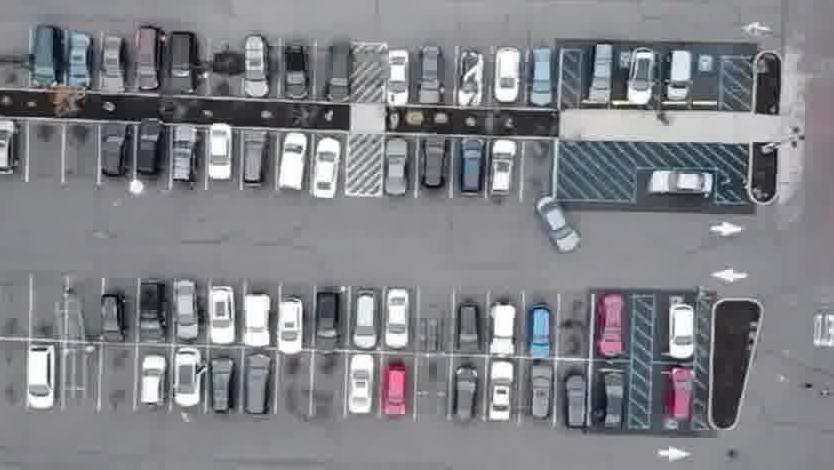car: (529, 196, 586, 251), (345, 285, 387, 347), (345, 353, 383, 420), (24, 340, 59, 410), (27, 24, 63, 89), (166, 31, 201, 96), (311, 134, 346, 199), (643, 164, 714, 196), (133, 26, 164, 95), (97, 129, 133, 188), (488, 358, 521, 422), (243, 350, 275, 416), (174, 353, 208, 415), (484, 135, 517, 198), (133, 126, 166, 189), (210, 359, 242, 422), (313, 289, 344, 354), (321, 44, 352, 108), (273, 135, 306, 195), (273, 299, 307, 357), (140, 279, 171, 342), (143, 350, 174, 413), (240, 128, 272, 189), (597, 291, 627, 356), (384, 283, 413, 348), (242, 39, 270, 106), (453, 362, 484, 422), (383, 356, 414, 416), (243, 297, 275, 355), (624, 45, 657, 101), (209, 292, 239, 353), (386, 135, 415, 197), (172, 282, 200, 346), (419, 131, 449, 190), (455, 137, 484, 198), (485, 299, 516, 356), (493, 44, 522, 104), (414, 46, 443, 106), (562, 365, 590, 427), (661, 47, 692, 103), (170, 125, 199, 184), (666, 361, 695, 420), (587, 45, 616, 103), (64, 36, 93, 94), (99, 291, 129, 347), (600, 363, 627, 425), (667, 295, 695, 354), (529, 45, 556, 106), (280, 43, 306, 106), (384, 51, 411, 111), (455, 48, 483, 105), (527, 362, 554, 421), (204, 128, 230, 189), (526, 304, 555, 357), (99, 37, 124, 98), (455, 303, 479, 356), (0, 118, 20, 176)
